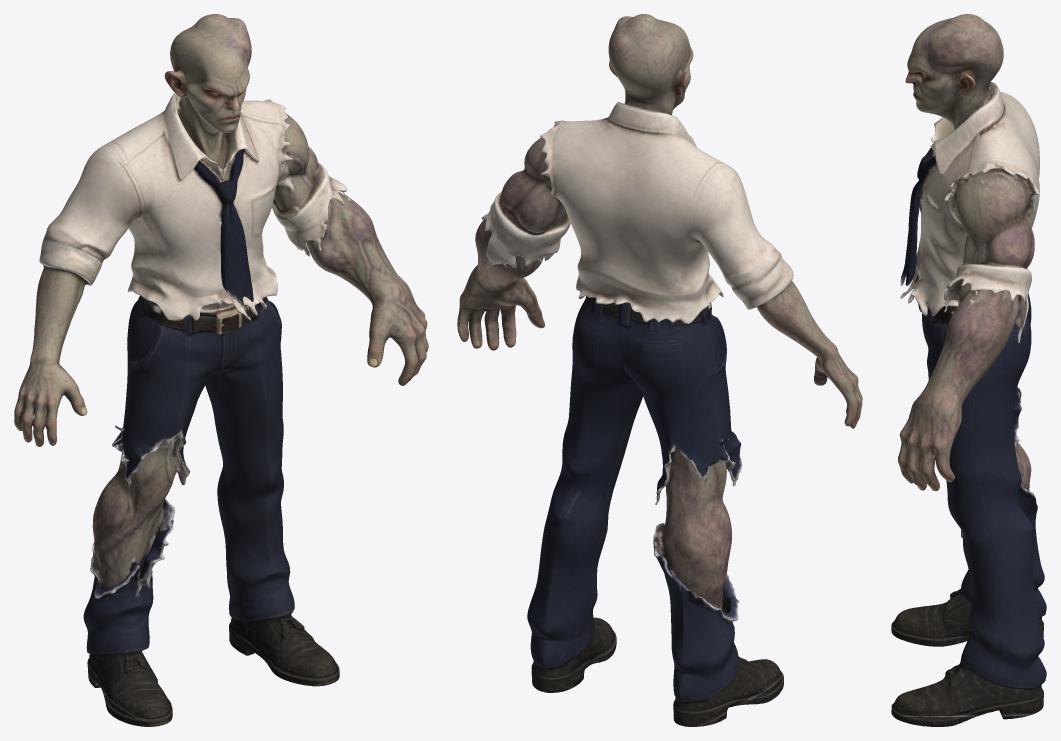
File: Revenant.glb
The picture shows the model from 3 angles, left to right: view 1: azimuth 30°, elevation 25°; view 2: azimuth 150°, elevation 25°; view 3: azimuth 270°, elevation 25°; orthographic projection.
Bounding box in the file's own units: 1.21 × 1.9 × 0.4035.
1 material, 1 textured.
